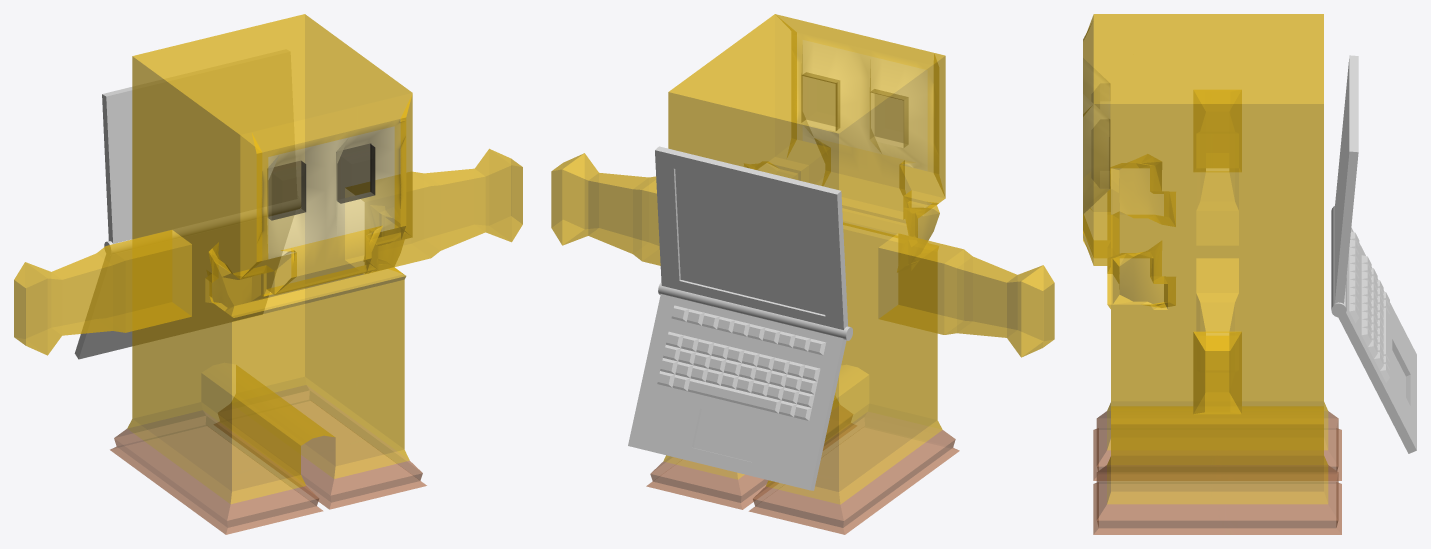
Rendered from CarreromonIngCompu.fbx.
The picture shows the model from 3 angles, left to right: view 1: azimuth 30°, elevation 25°; view 2: azimuth 150°, elevation 25°; view 3: azimuth 270°, elevation 25°; orthographic projection. The views are drawn at different scales.
Visible parts, largest first — view 1: Carreromon, Box002, Box001, Cylinder001; view 2: Carreromon, Box001, Box002, Cylinder001; view 3: Carreromon, Box001, Box002, Cylinder001.
Part boxes in pixels (bbox=[...]): Carreromon: bbox=[14, 14, 522, 534]; Box002: bbox=[102, 49, 297, 243]; Box001: bbox=[74, 215, 293, 359]; Cylinder001: bbox=[104, 196, 300, 254]; Carreromon: bbox=[551, 14, 1054, 534]; Box001: bbox=[628, 294, 846, 490]; Box002: bbox=[655, 146, 848, 329]; Cylinder001: bbox=[658, 282, 852, 340]; Carreromon: bbox=[1083, 14, 1341, 534]; Box001: bbox=[1338, 227, 1416, 453]; Box002: bbox=[1334, 55, 1358, 303]; Cylinder001: bbox=[1331, 206, 1346, 317].
Bounding box in the file's own units: 130 × 98.73 × 70.53.
Materials: 1 (1 with a texture image).
